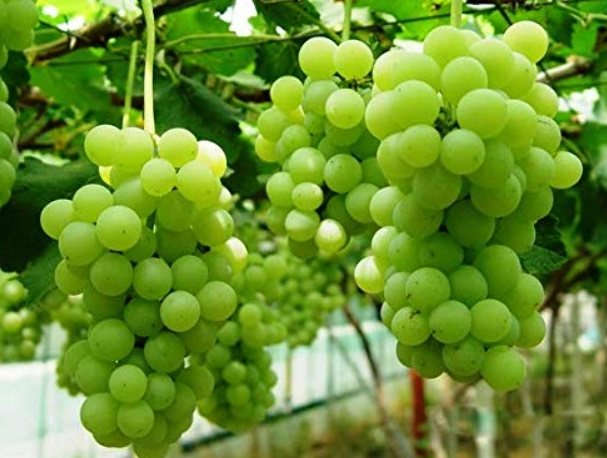Green: (6, 5, 598, 390)
